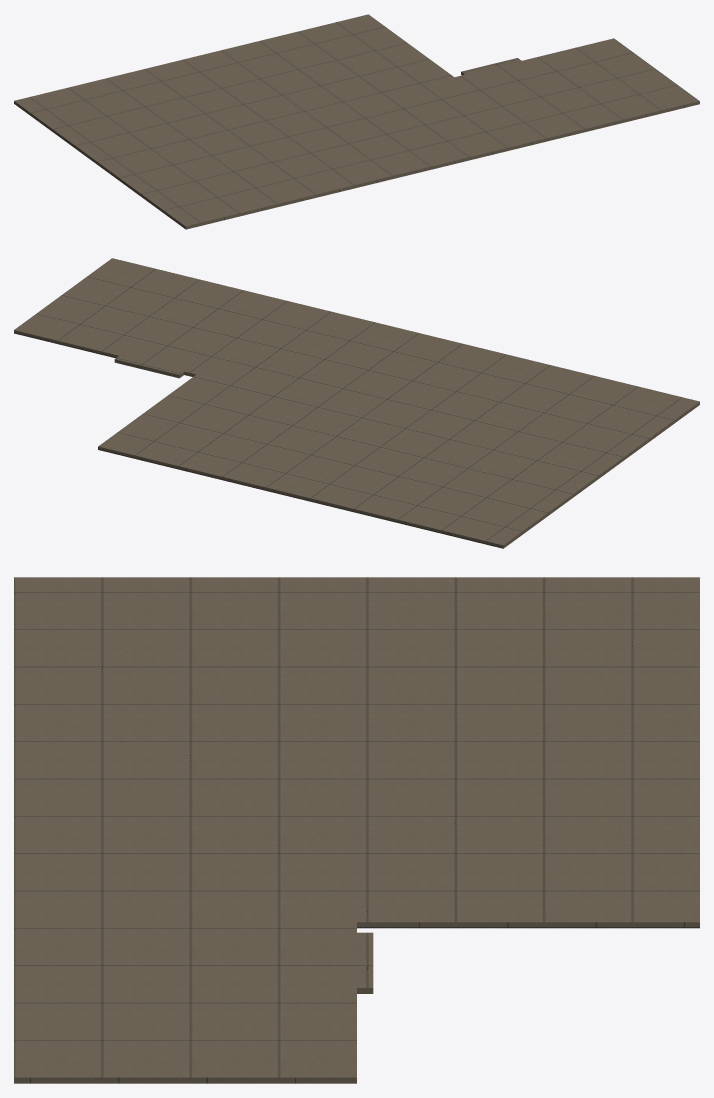
Rendered from RoomFloor.fbx.
The picture shows the model from 3 angles, top to bottom: view 1: azimuth 30°, elevation 25°; view 2: azimuth 150°, elevation 25°; view 3: azimuth 270°, elevation 25°; orthographic projection. The views are drawn at different scales.
Parts seen in each view (by area): view 1: RoomFloor; view 2: RoomFloor; view 3: RoomFloor.
Part boxes in pixels (x1,y1,x2,y2): RoomFloor: (14,14,699,229); RoomFloor: (14,258,699,548); RoomFloor: (14,577,699,1083).
Bounding box in the file's own units: 725 × 4 × 420.
1 material, 1 textured.
